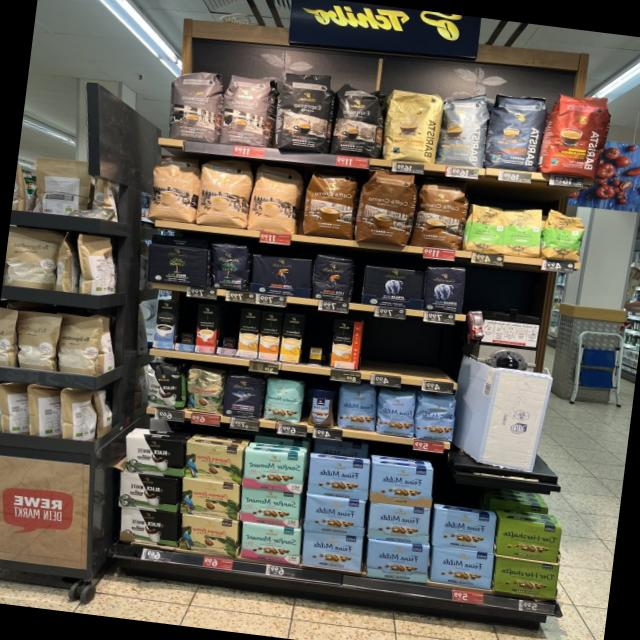AB Bohne: (422, 261, 468, 315)
AB Gemahlen: (360, 262, 426, 311)
Athiopien Bohne: (539, 208, 586, 262)
Athiopien Gemahlen: (502, 204, 544, 258), (465, 203, 505, 255)
BM Bohne: (204, 236, 250, 292)
BM Gemahlen: (144, 240, 210, 288)
BW Bohne: (138, 362, 184, 409)
BW Gemahlen: (121, 432, 188, 478), (116, 471, 180, 514), (118, 505, 178, 547)
Barista CB: (380, 87, 442, 166)
Barista CC: (434, 87, 492, 170)
Barista Espresso: (485, 88, 549, 174)
Barista Kolumbien: (538, 86, 615, 182)
C Fino Bohne: (220, 372, 265, 420)
CC Mild: (194, 153, 255, 231), (246, 159, 305, 236), (144, 148, 200, 224)
CC Vollmundig 36 Pads: (352, 166, 418, 249), (411, 174, 470, 252), (300, 164, 358, 240)
Colombia BB Bohne: (183, 366, 224, 414)
Colombia BB Gemahlen: (178, 477, 241, 520), (182, 441, 245, 484), (176, 513, 238, 556)
Empty Shelf: (362, 318, 460, 382), (300, 315, 335, 367), (217, 305, 240, 349), (175, 301, 198, 344)
Espresso Aromatisch: (215, 69, 276, 151), (163, 66, 222, 146)
Espresso Kraftig: (272, 67, 336, 156), (328, 79, 389, 162)
FM Bohne: (373, 389, 418, 438), (414, 393, 458, 443), (336, 383, 378, 432)
FM Gemahlen: (364, 539, 431, 585), (368, 461, 433, 508), (429, 508, 497, 552), (305, 454, 370, 500), (428, 546, 495, 589), (366, 501, 431, 545), (303, 493, 366, 537), (300, 530, 362, 572)
FM Instant: (306, 386, 337, 428)
Herzhatfe Mundig: (494, 518, 564, 563), (491, 557, 559, 599)
LG Bohne: (310, 250, 358, 304)
LG Gemahlen: (246, 251, 314, 299)
SM Bohne: (260, 375, 306, 425)
SM Gemahlen: (240, 444, 306, 494), (237, 485, 301, 528), (238, 522, 302, 565)
Simo CCMild bigpack: (278, 313, 304, 363), (257, 310, 282, 360)
Simo CCVollmundig: (330, 319, 362, 369)
Simo Decaff: (236, 308, 262, 358)
Simo Es Brazil: (194, 302, 219, 353)
Simo Es Vanilla: (152, 298, 178, 349)
